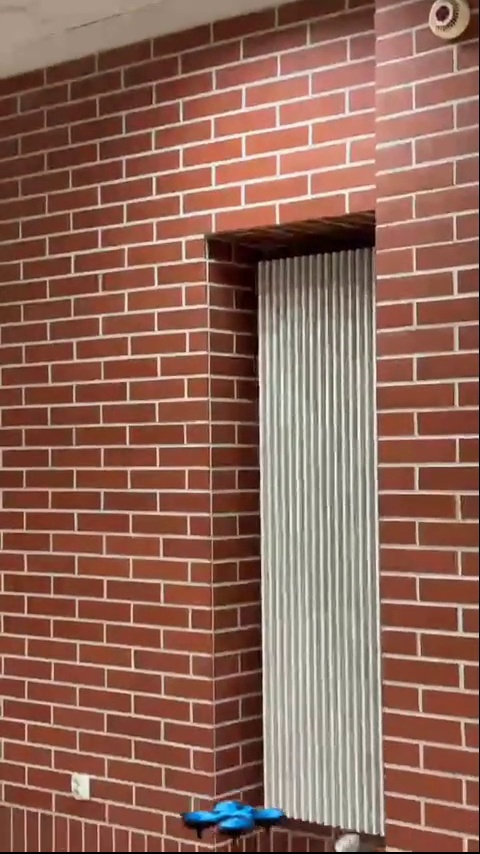drone: (186, 802, 282, 836)
